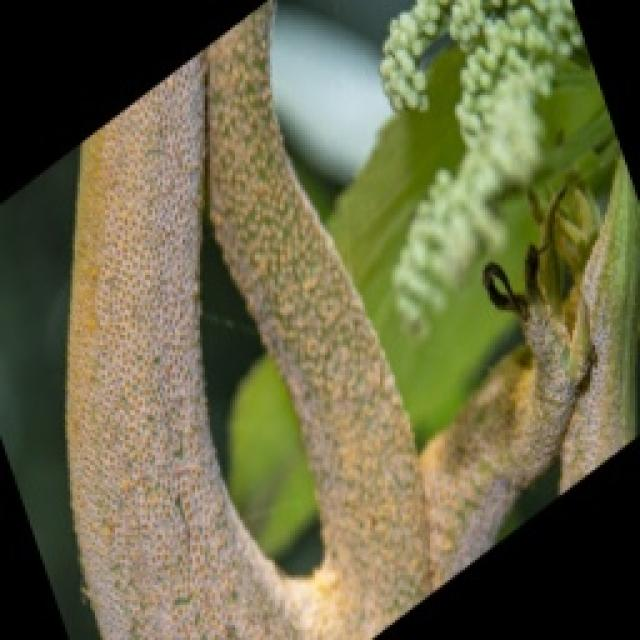Elderberry_rust: (71, 16, 640, 640)
